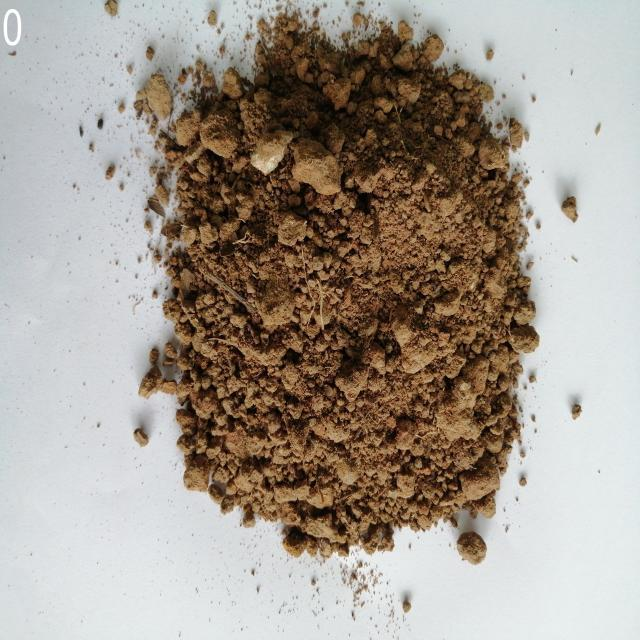soil: (223, 110, 480, 484)
